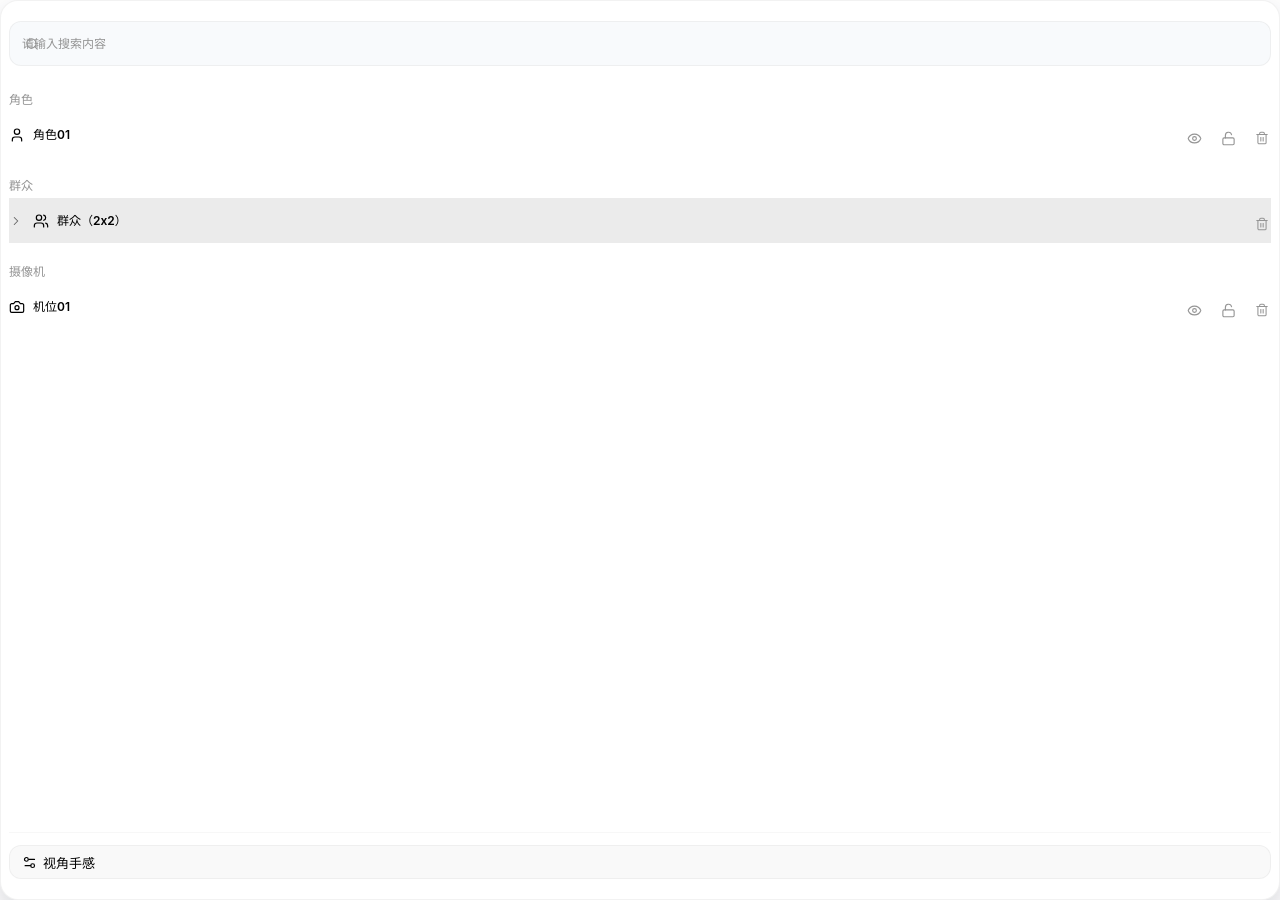
Test: deletes every crowd member from the crowd row action
Click the button named "删除 群众（2x2）".
click(1256, 220)  # box top-left (1243, 206), bottom-right (1269, 234)
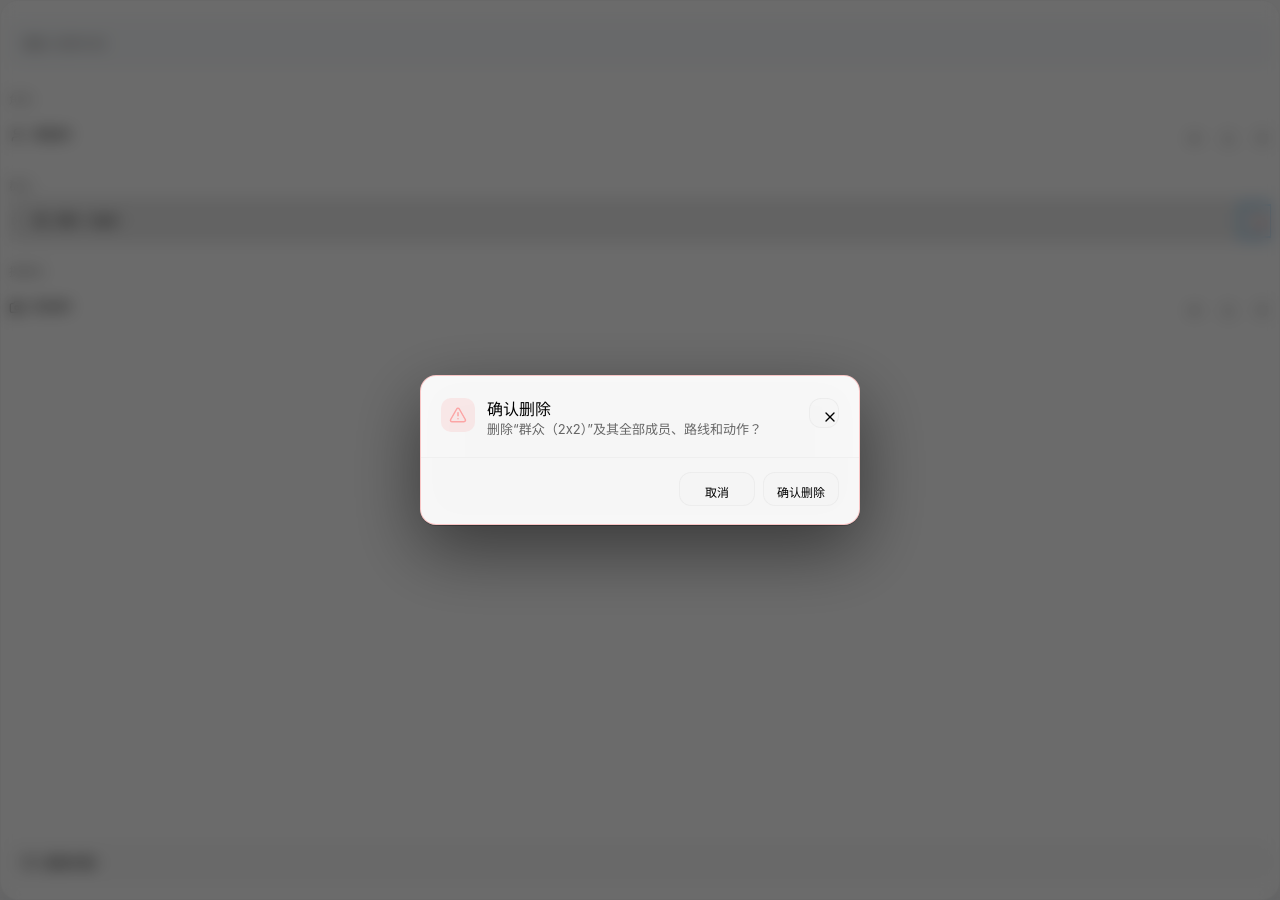
Click the button "确认删除".
click(801, 489)  # box top-left (763, 472), bottom-right (839, 506)
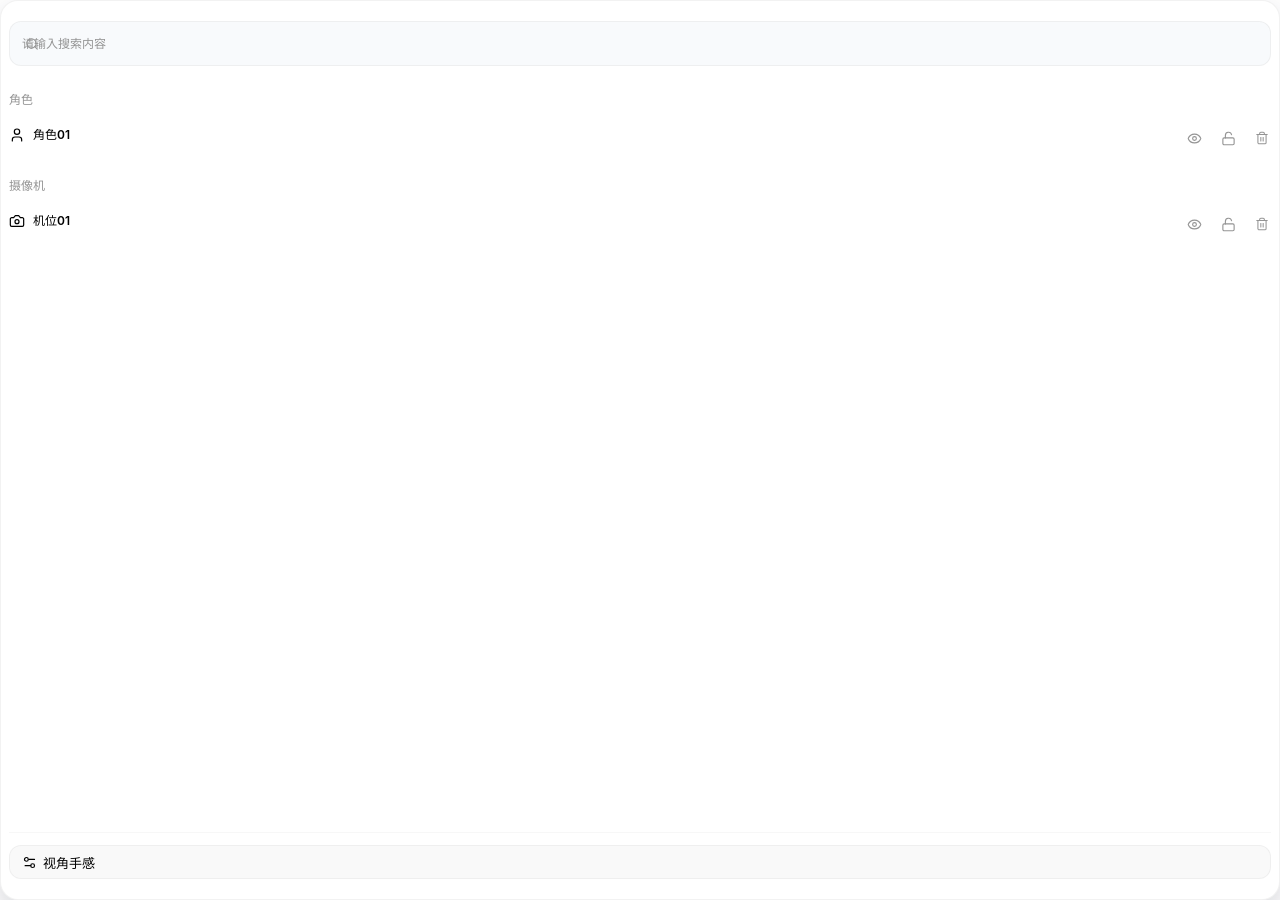
Now the element "群众分组" is gone
